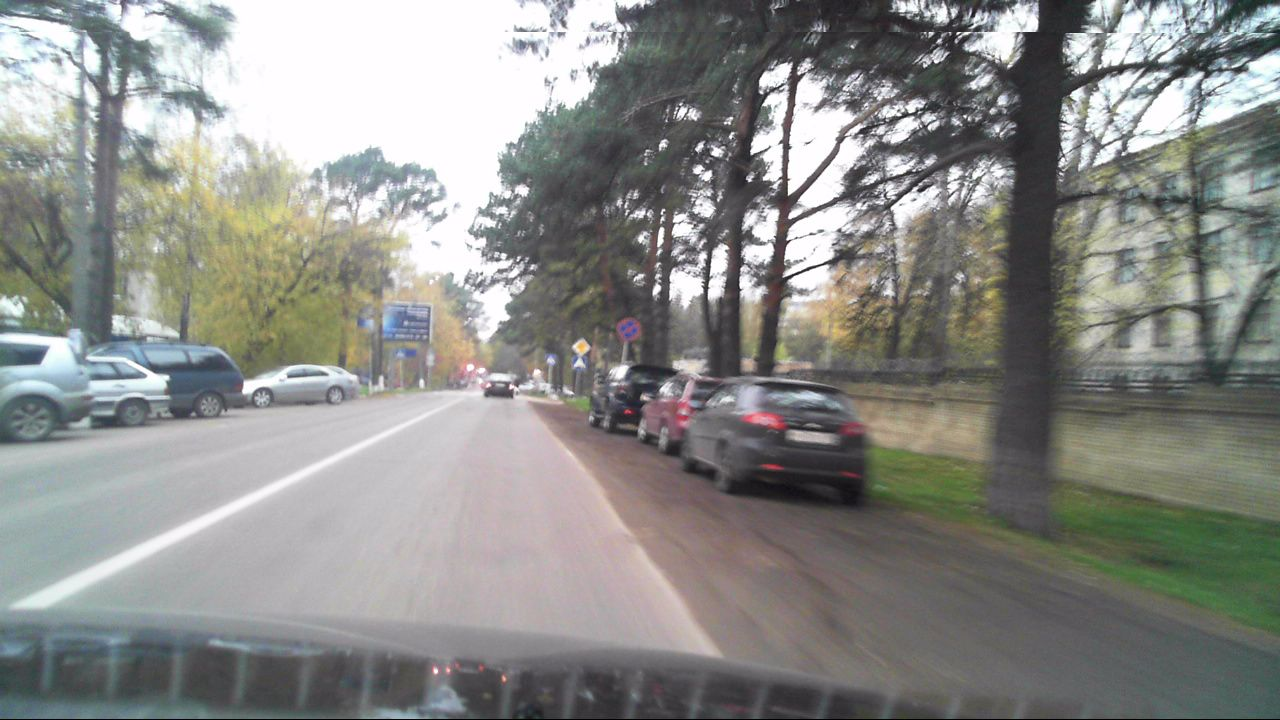No Parking: (615, 317, 641, 342)
